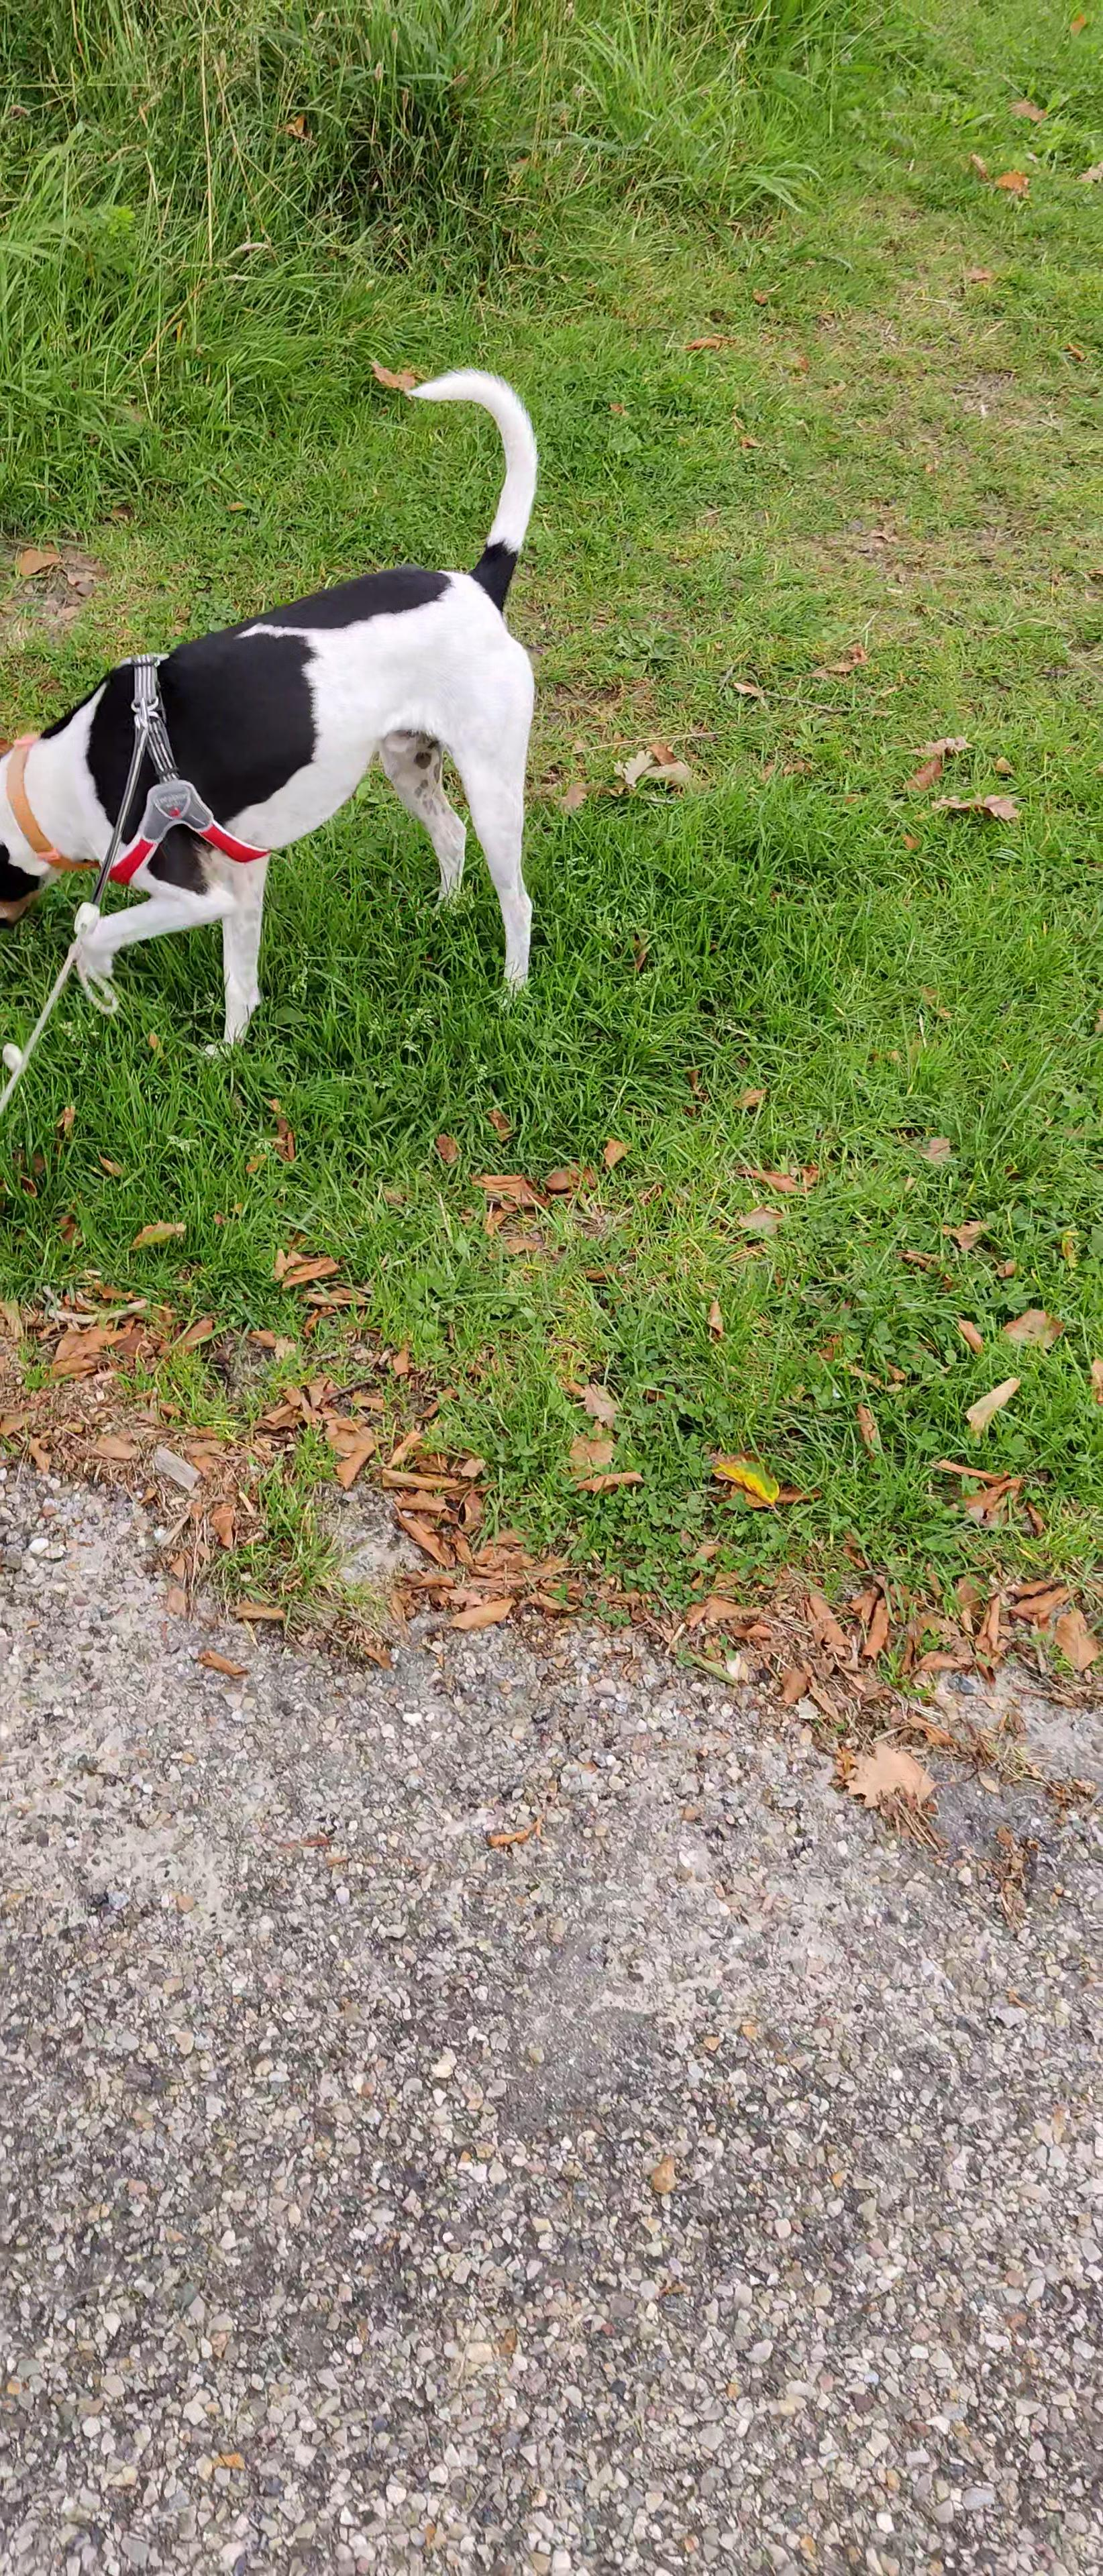Dog: (0, 338, 565, 1046)
